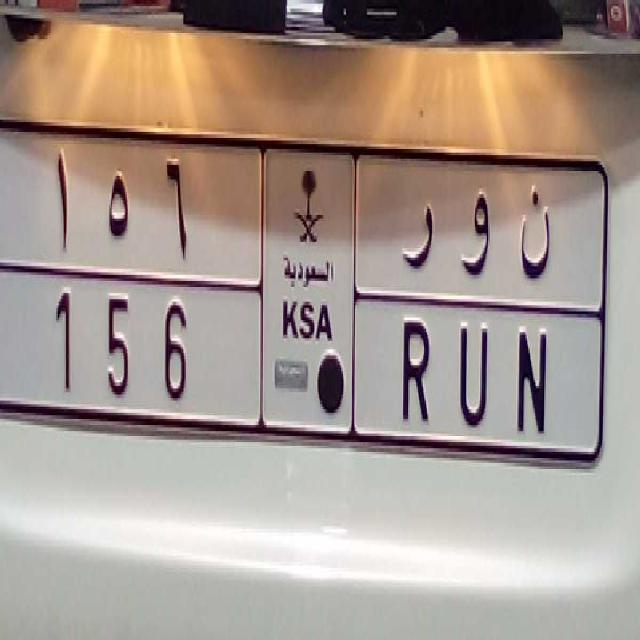license_plate: (22, 269, 559, 466)
